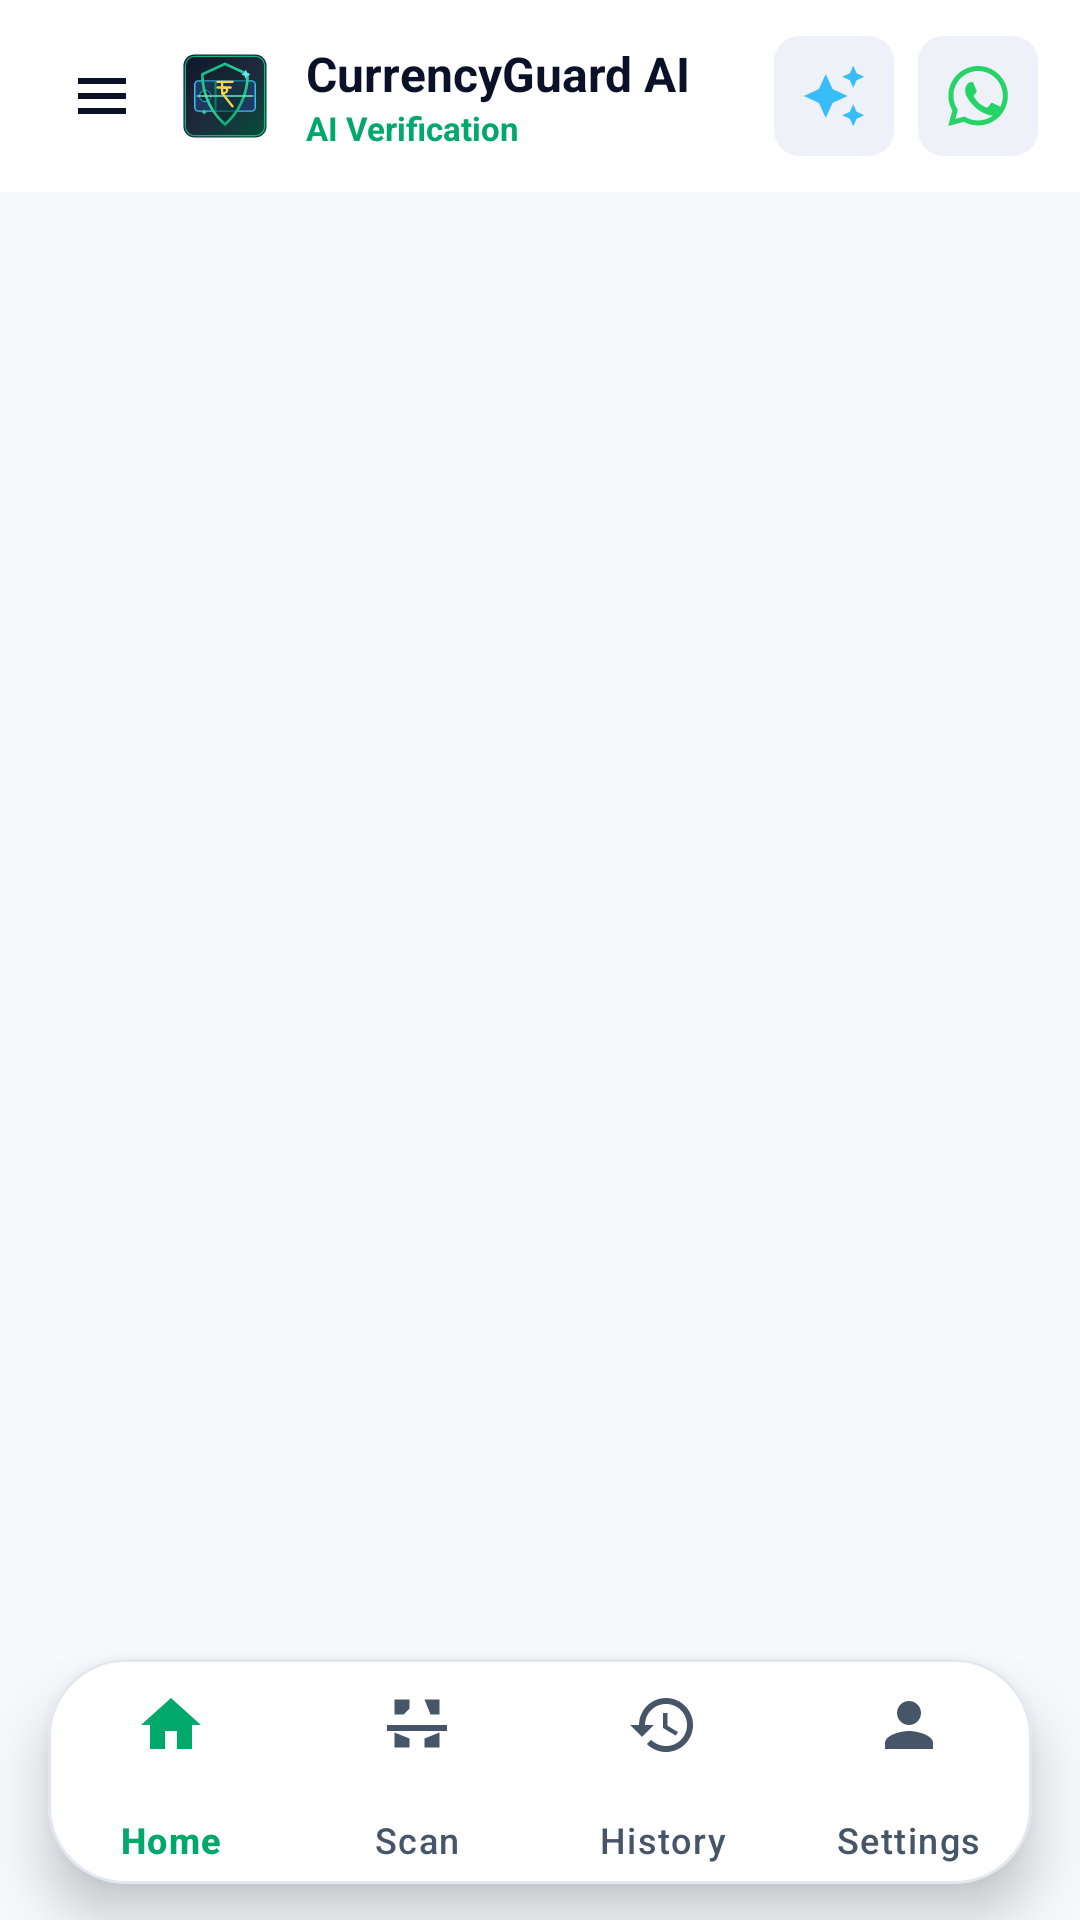

Named icons in this screenshot (1080×1920) and their bounding boxes, (x1, y1, x2, y2):
Ask Gemini AI: (774, 36, 894, 156)
Open Navigation Drawer: (78, 78, 126, 114)
